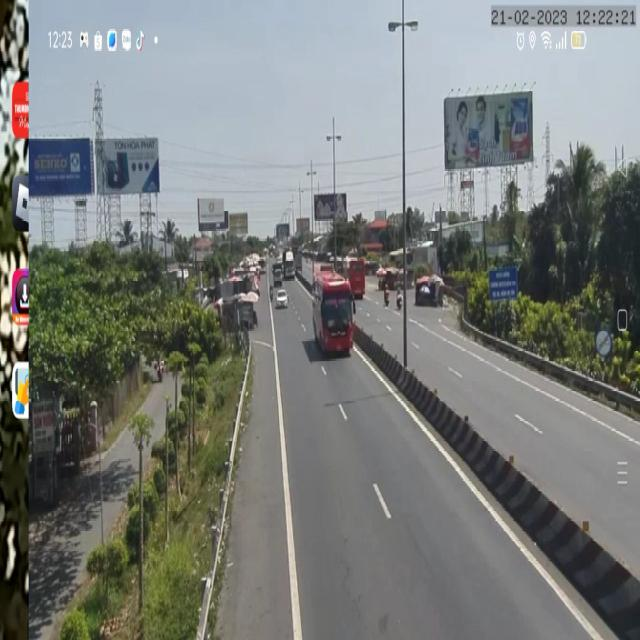bus: (312, 274, 353, 356), (345, 258, 366, 298)
car: (273, 290, 287, 309)
